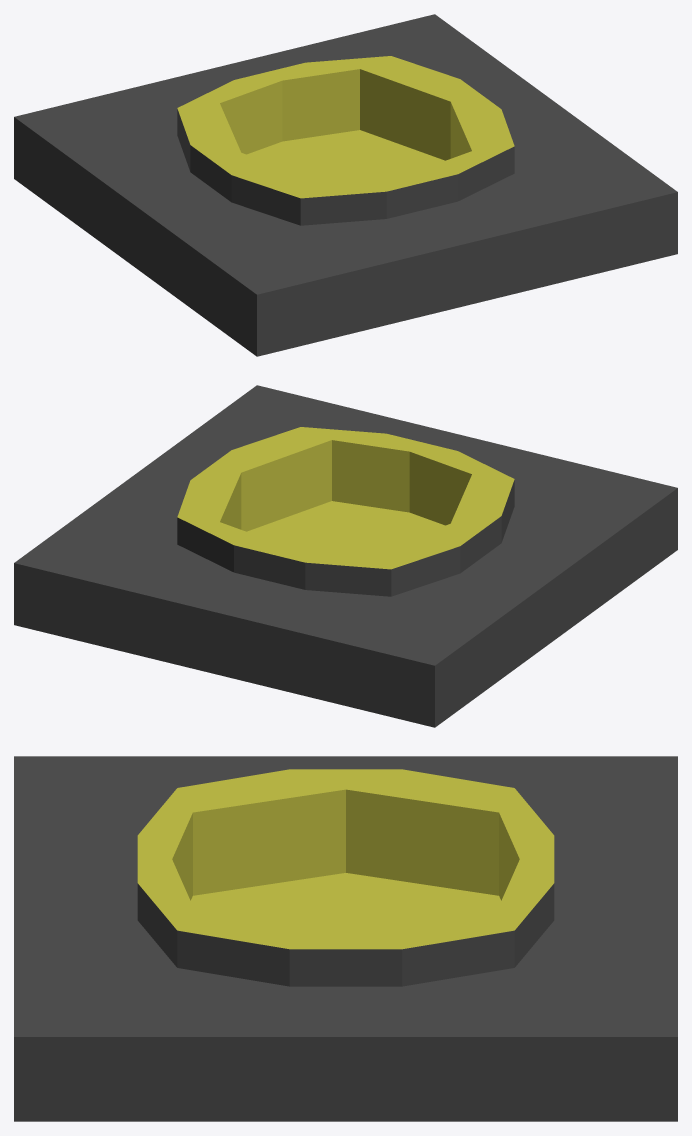
Rendered from platform_inset.glb.
3 renders of one model, top to bottom at view 1: azimuth 30°, elevation 25°; view 2: azimuth 150°, elevation 25°; view 3: azimuth 270°, elevation 25°, orthographic. The views are drawn at different scales.
Visible parts, largest first — view 1: Base; view 2: Base; view 3: Base.
Part boxes in pixels (x1,y1,x2,y2): Base: (14,14,677,356); Base: (14,385,677,727); Base: (14,756,677,1121).
Bounding box in the file's own units: 0.8914 × 0.1808 × 0.8914.
